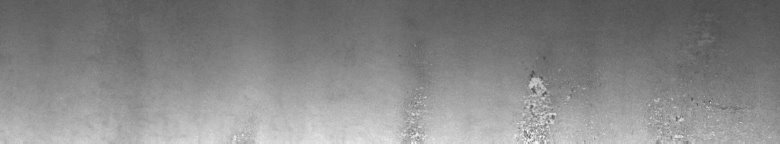hc: (514, 56, 584, 136)
